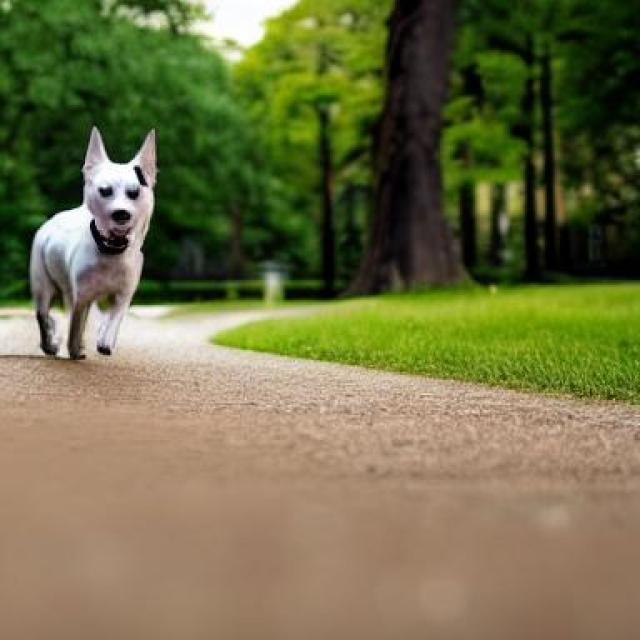Dog: (28, 126, 158, 361)
